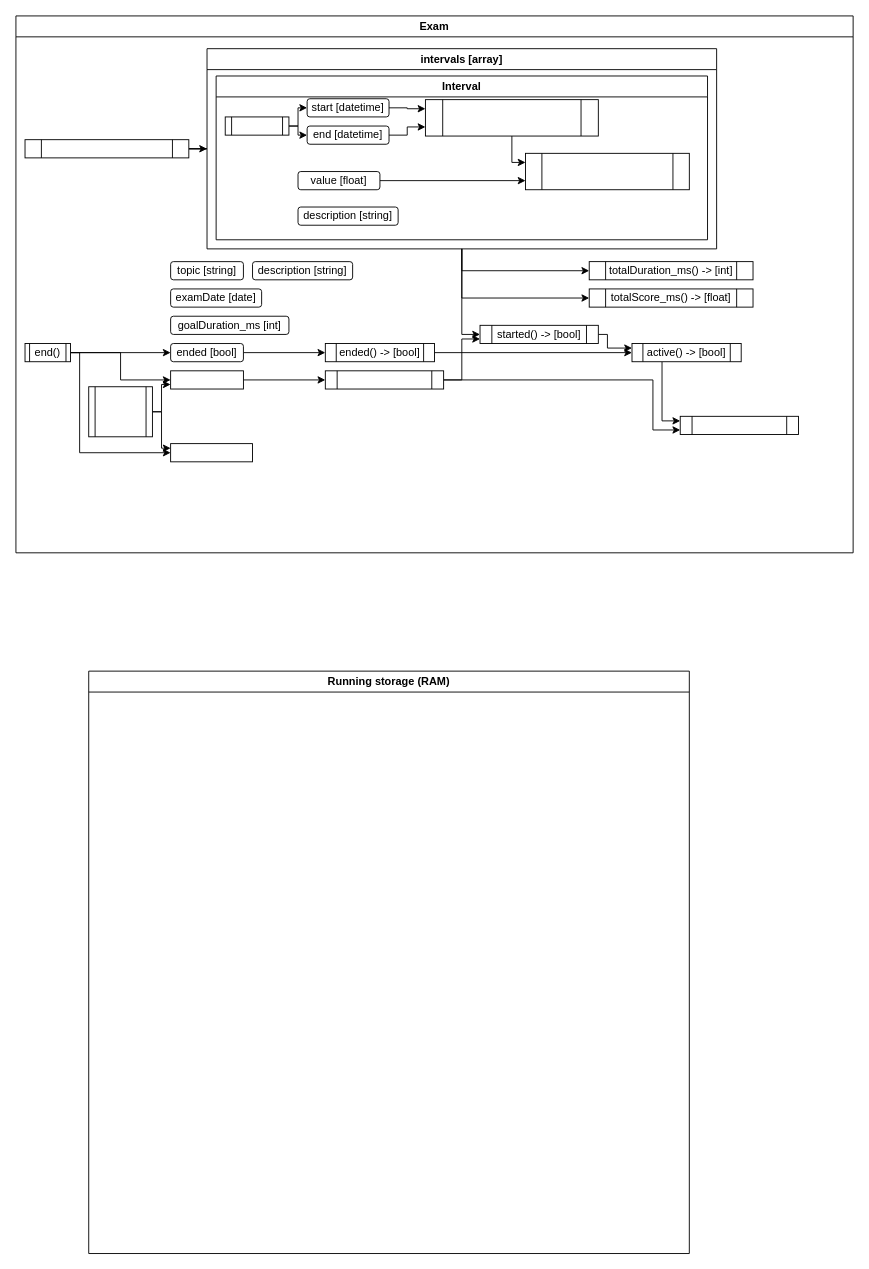
The diagram is 869 pixels wide and 1269 high, and some of its shapes have lost their labels. Each missing label, with the centre of its shape:
"getDuration_ms() -> [int]" goes at (511,117).
"getScore_ms() -> [float]" goes at (607,171).
"lastTime [date]" goes at (211,452).
"paused() -> [bool]" goes at (739,425).
"recordInterval(val, descr)" goes at (106,148).
"running [bool]" goes at (206,379).
"running() -> [bool]" goes at (384,379).
"shift(val)" goes at (256,125).
"start() pause() resume()" goes at (120,411).
